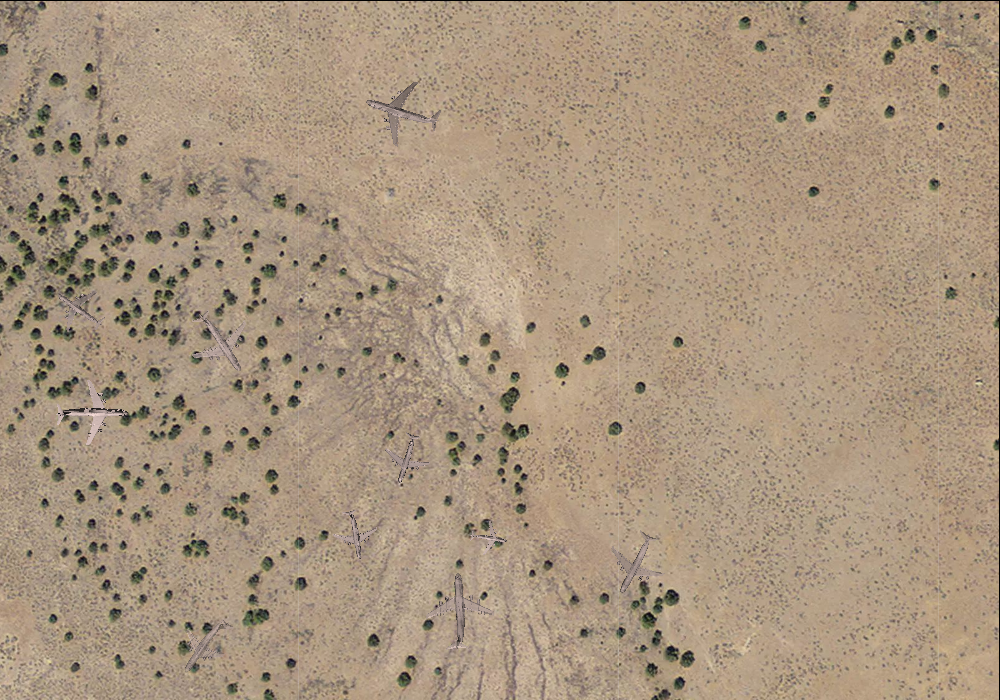plane: (172, 294, 267, 390), (355, 64, 450, 157), (592, 519, 678, 607), (164, 603, 248, 690), (418, 571, 497, 653), (42, 273, 115, 345), (54, 378, 128, 448), (375, 426, 437, 490), (326, 505, 382, 563), (466, 517, 510, 559)
